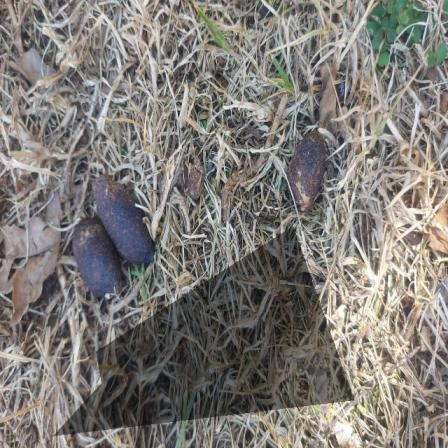dog-poop: (54, 179, 150, 295), (282, 130, 331, 211)
